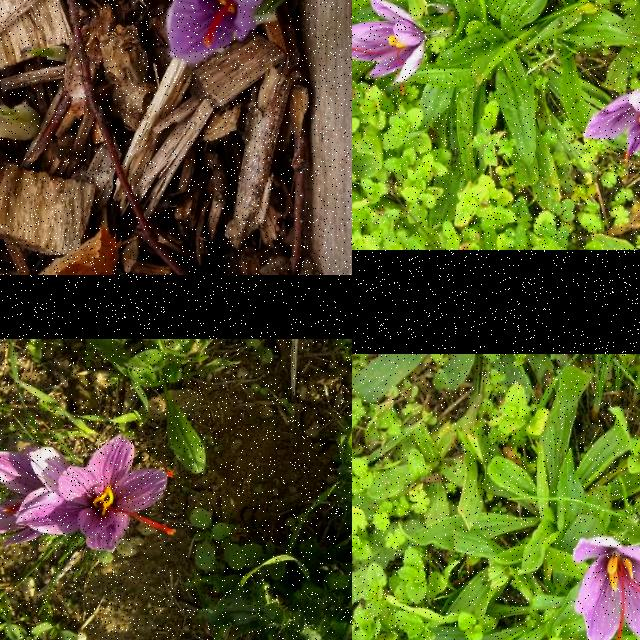flower: (352, 0, 429, 93), (573, 536, 640, 640), (165, 0, 258, 64), (583, 86, 640, 167)
overlap: (0, 433, 177, 551)
